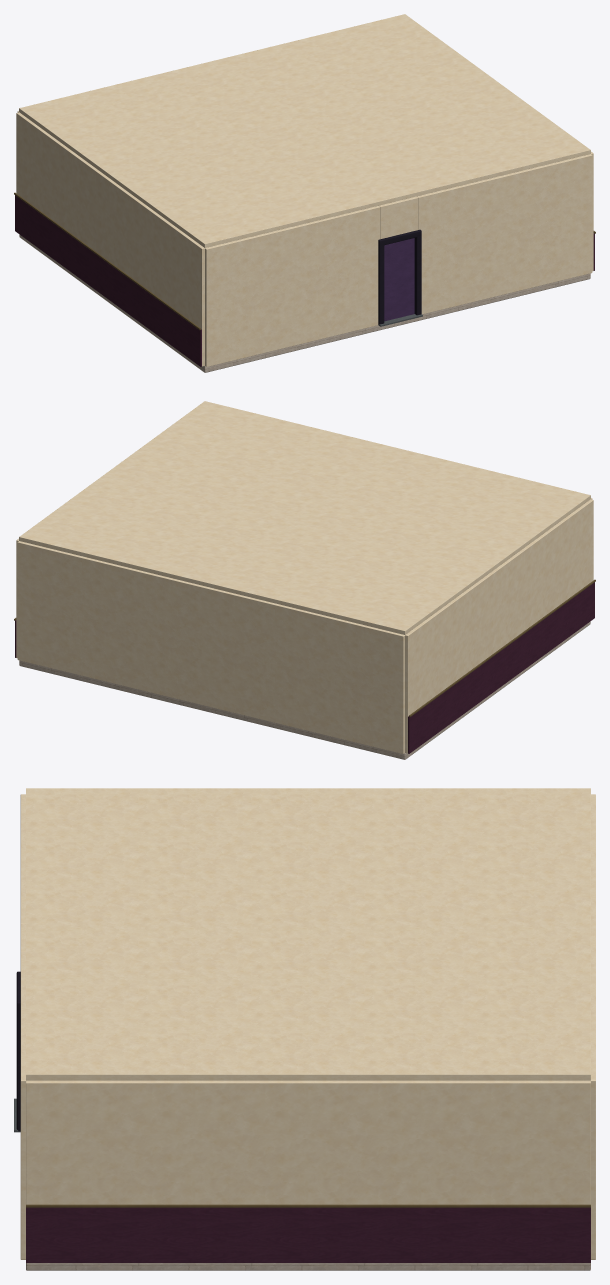
Rendered from explore3d__hotel_multiuse.glb.
3 views of the same model, one above another, from view 1: azimuth 30°, elevation 25°; view 2: azimuth 150°, elevation 25°; view 3: azimuth 270°, elevation 25° (orthographic). The views are drawn at different scales.
Visible parts, largest first — view 1: ceiling.005, wall.012, wall.011, wall.014, lower_panel.013, hotel_multiuse_floor, front.015_leaf, door_lintel.002, front.015_jamb, panel_rail.013, front.015_jamb.001; view 2: ceiling.005, wall.013, wall.014, lower_panel.013, hotel_multiuse_floor, panel_rail.013; view 3: ceiling.005, wall.015, lower_panel.014, hotel_multiuse_floor, wall.013, panel_rail.014, wall.011, wall.012.
Part boxes in pixels (x1=…): ceiling.005: x1=19, y1=14, x2=590, y2=247; wall.012: x1=205, y1=206, x2=380, y2=366; wall.011: x1=417, y1=154, x2=592, y2=314; wall.014: x1=16, y1=112, x2=204, y2=366; lower_panel.013: x1=15, y1=195, x2=201, y2=366; hotel_multiuse_floor: x1=19, y1=234, x2=590, y2=372; front.015_leaf: x1=384, y1=238, x2=414, y2=321; door_lintel.002: x1=379, y1=196, x2=418, y2=239; front.015_jamb: x1=414, y1=235, x2=421, y2=315; panel_rail.013: x1=14, y1=192, x2=200, y2=329; front.015_jamb.001: x1=378, y1=243, x2=384, y2=324; ceiling.005: x1=19, y1=401, x2=590, y2=634; wall.013: x1=17, y1=541, x2=404, y2=753; wall.014: x1=405, y1=499, x2=593, y2=753; lower_panel.013: x1=408, y1=582, x2=594, y2=753; hotel_multiuse_floor: x1=19, y1=621, x2=590, y2=759; panel_rail.013: x1=409, y1=579, x2=595, y2=716; ceiling.005: x1=26, y1=788, x2=590, y2=1080; wall.015: x1=26, y1=1080, x2=590, y2=1204; lower_panel.014: x1=26, y1=1207, x2=590, y2=1262; hotel_multiuse_floor: x1=26, y1=1263, x2=590, y2=1270; wall.013: x1=591, y1=794, x2=595, y2=1259; panel_rail.014: x1=26, y1=1204, x2=590, y2=1207; wall.011: x1=20, y1=951, x2=25, y2=1259; wall.012: x1=20, y1=794, x2=25, y2=923.
Bounding box in the file's own units: 12.32 × 3.84 × 10.3.
14 materials, 13 textured.
